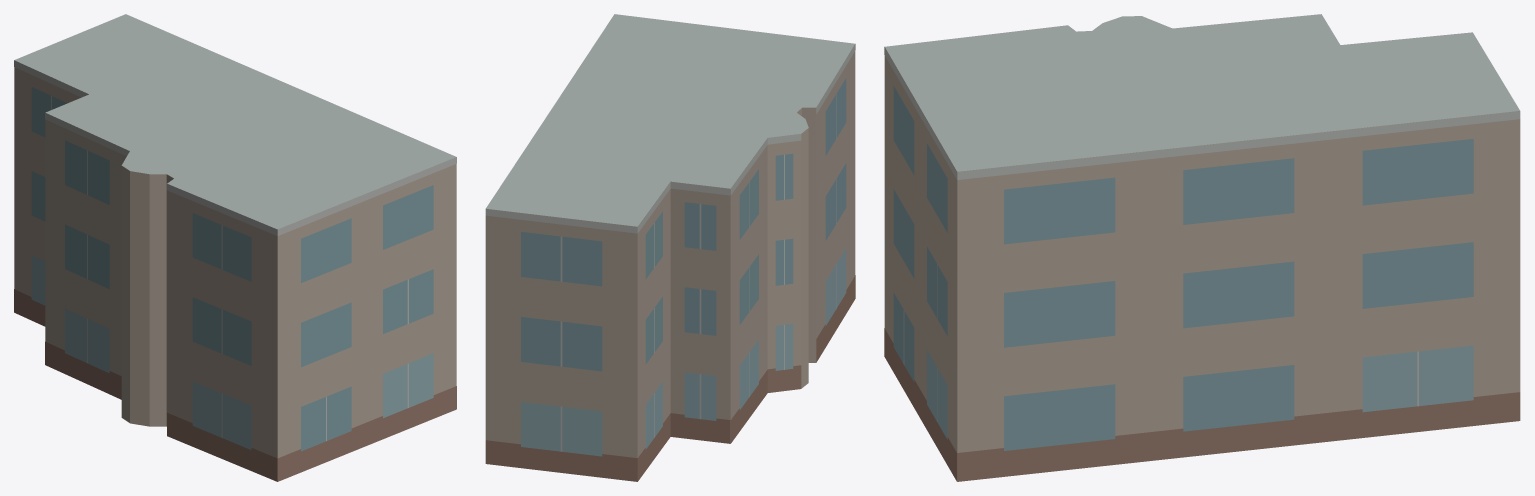
Rendered from survey-upis-32722301.glb.
3 views of the same model, side by side, from view 1: azimuth 30°, elevation 25°; view 2: azimuth 150°, elevation 25°; view 3: azimuth 270°, elevation 25° (orthographic). The views are drawn at different scales.
Parts seen in each view (by area): view 1: survey-upis-32722301.tmp; view 2: survey-upis-32722301.tmp; view 3: survey-upis-32722301.tmp.
Boxes of the visible parts, bbox=[...] form: survey-upis-32722301.tmp: bbox=[14, 14, 456, 481]; survey-upis-32722301.tmp: bbox=[485, 14, 855, 481]; survey-upis-32722301.tmp: bbox=[884, 14, 1520, 481].
Size of the model in its own units: 10 by 9.15 by 17.01.
